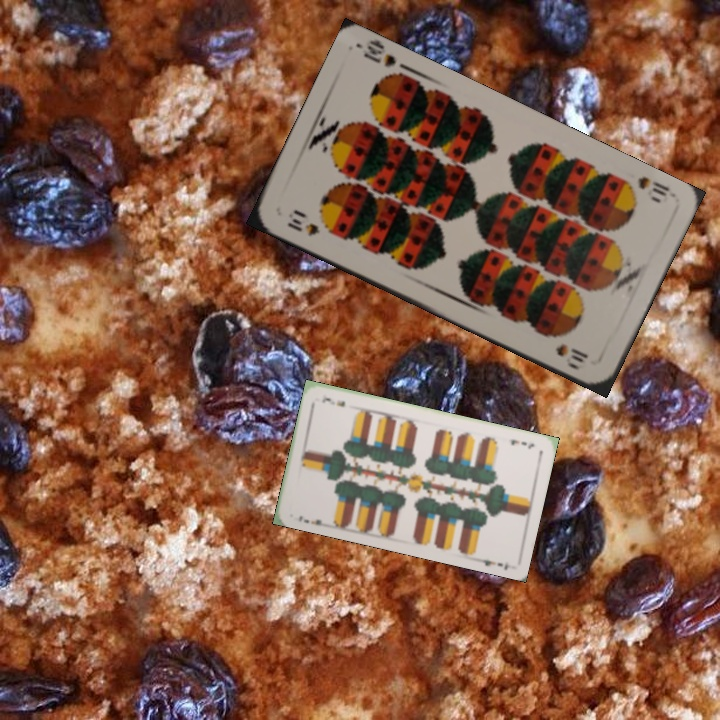E7: (295, 511, 329, 529), (506, 435, 537, 451)
S10: (634, 172, 673, 199), (283, 214, 322, 239)
